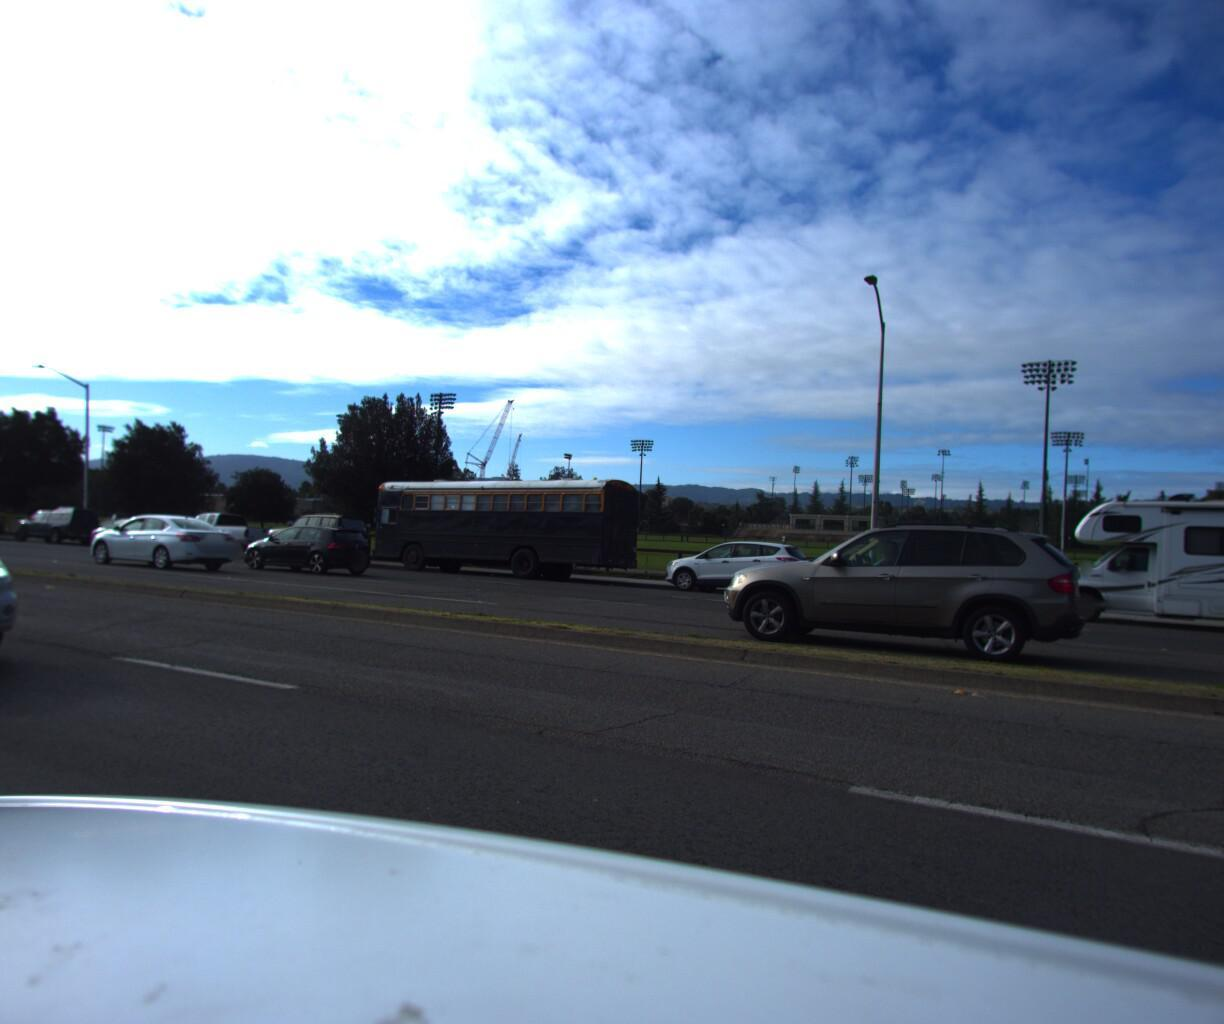bus: (350, 465, 653, 590)
car: (723, 517, 1112, 672), (0, 453, 60, 723), (647, 529, 818, 599), (78, 505, 240, 570), (241, 518, 380, 575), (247, 506, 373, 564), (151, 503, 285, 557), (0, 500, 105, 544), (0, 507, 8, 539)
other_vehicle: (1030, 478, 1224, 649)
